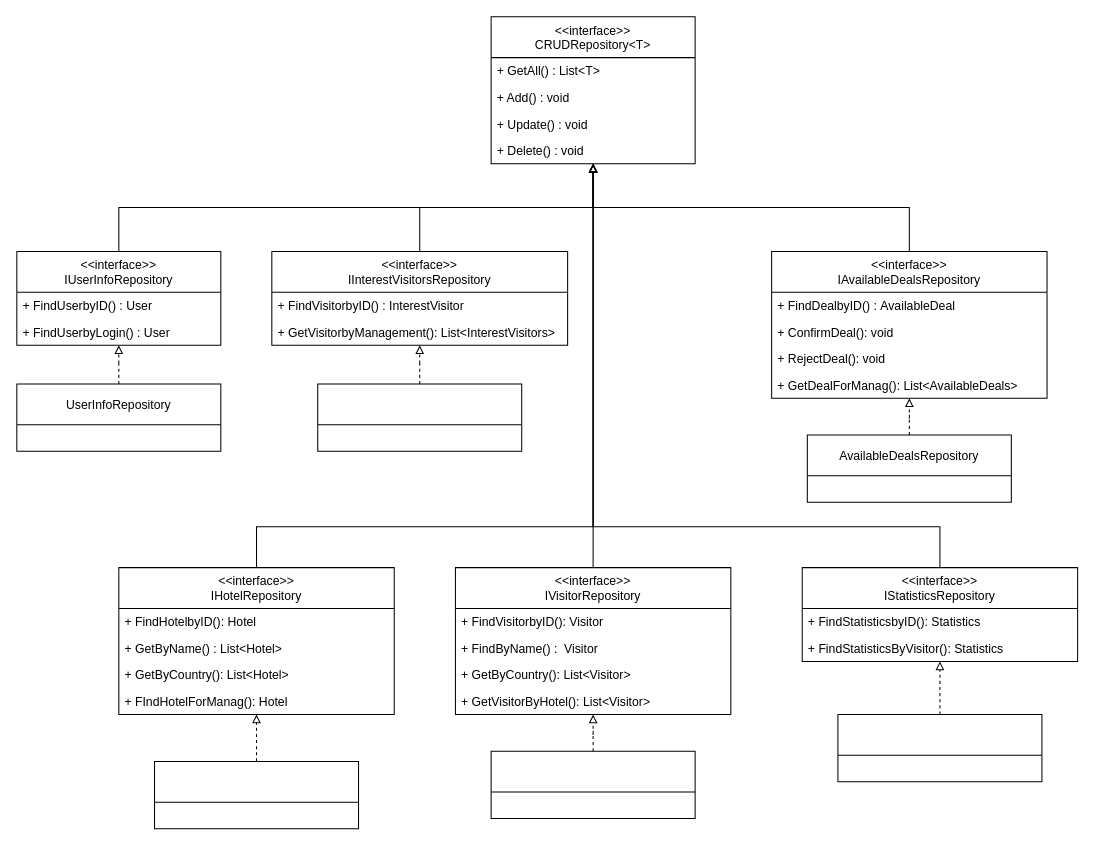
Some shapes in this 1094 by 846 pixel diagram are drawn without their labels. Each missing label, with the centre of its shape:
"HotelRepository" goes at (x=256, y=794).
"InterestVisitorsRepository" goes at (x=419, y=417).
"StatisticsRepository" goes at (x=939, y=747).
"VisitorRepository" goes at (x=592, y=784).
